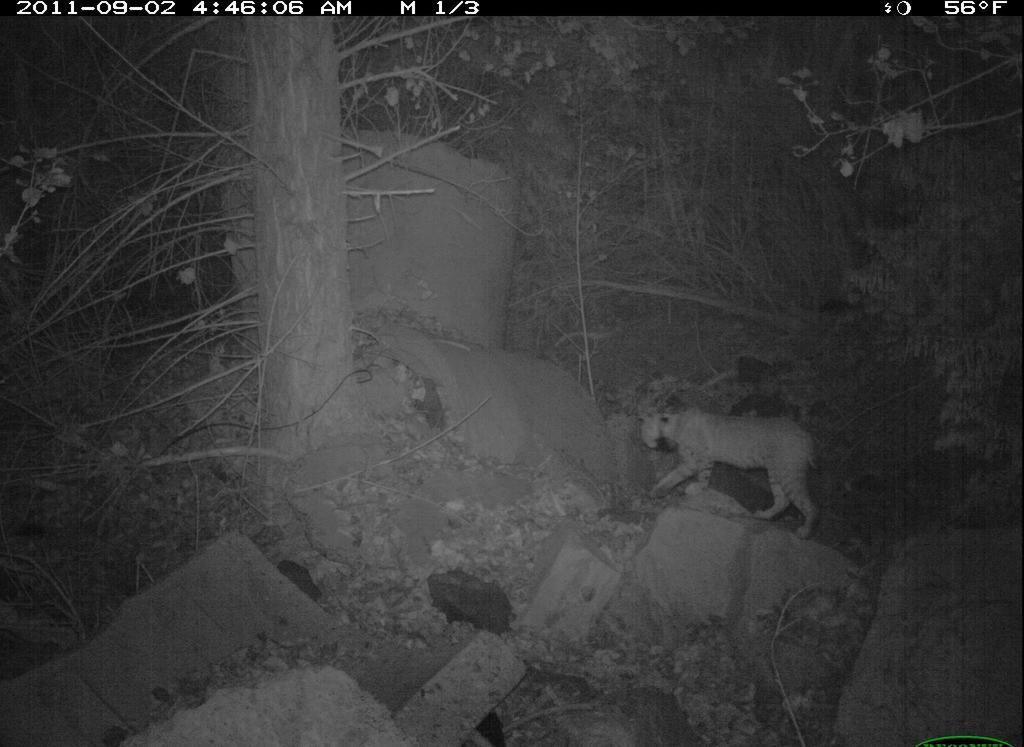bobcat: (623, 400, 839, 548)
